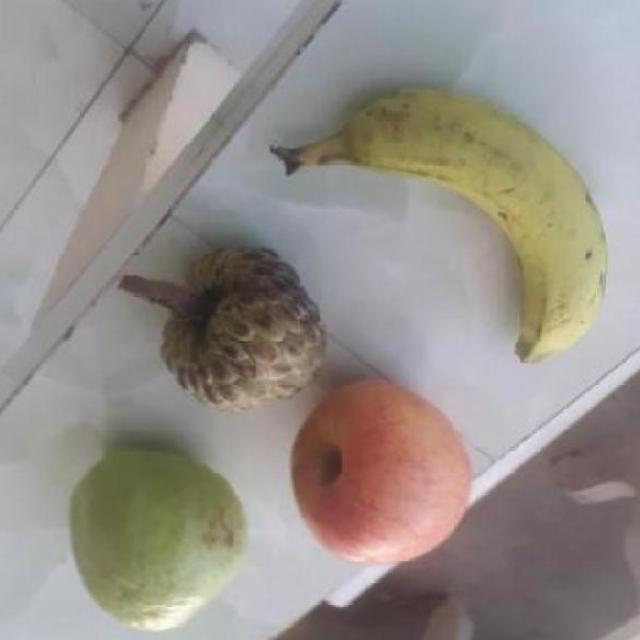apple: (282, 383, 474, 570)
banana: (272, 89, 604, 368)
guava: (65, 454, 243, 626)
sugar apple: (142, 244, 324, 416)
